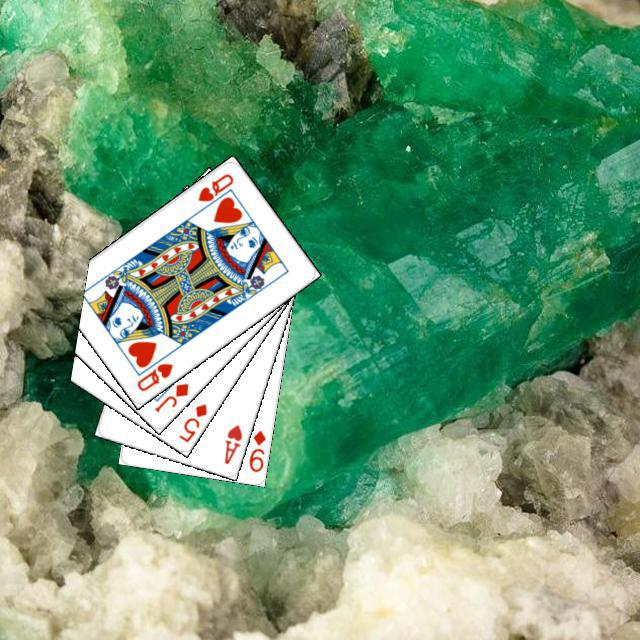5d: (174, 399, 209, 444)
9d: (244, 425, 267, 474)
Ah: (219, 419, 244, 466)
Jd: (149, 378, 191, 414)
Qh: (193, 169, 235, 214), (132, 358, 174, 393)
